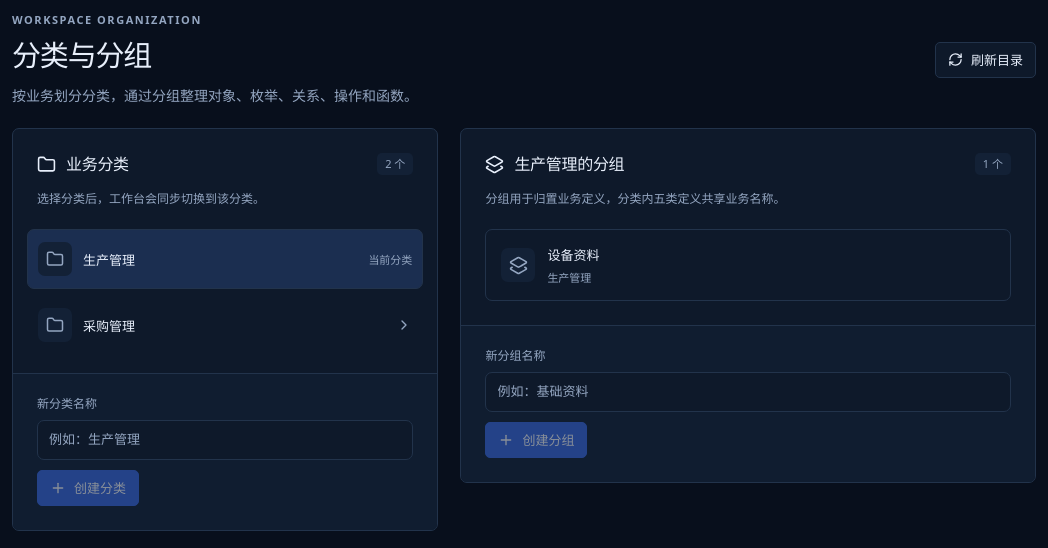
classification and definition-group management › clears loaded directory data after a forbidden creation
expect the text "设备资料" is shown: met, box [547,245,599,264]
Type "新分组" into the field labelled "新分组名称" at (748, 392), box [485,372,1011,412]
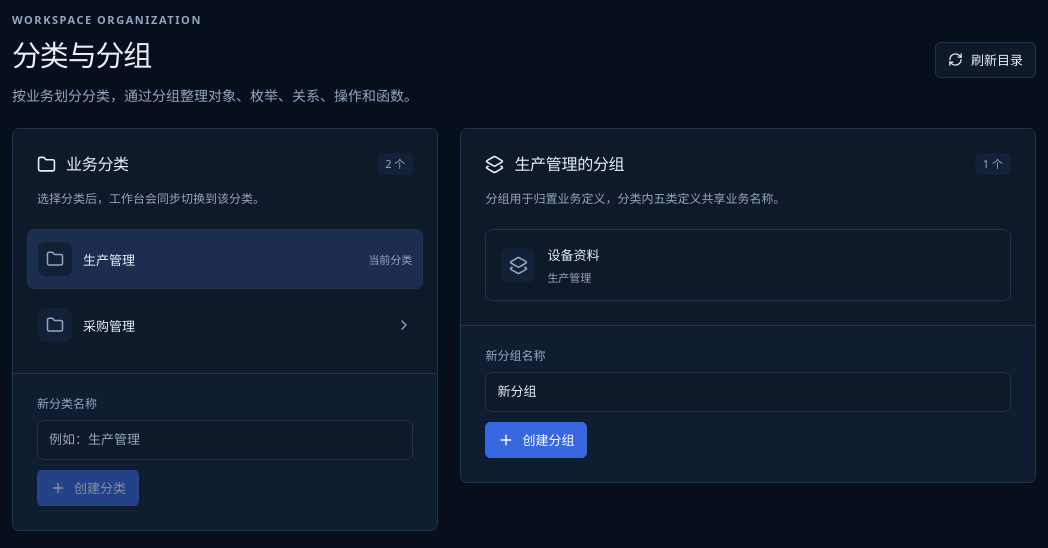
Click the button "创建分组" at (536, 440), box [485,422,587,458]
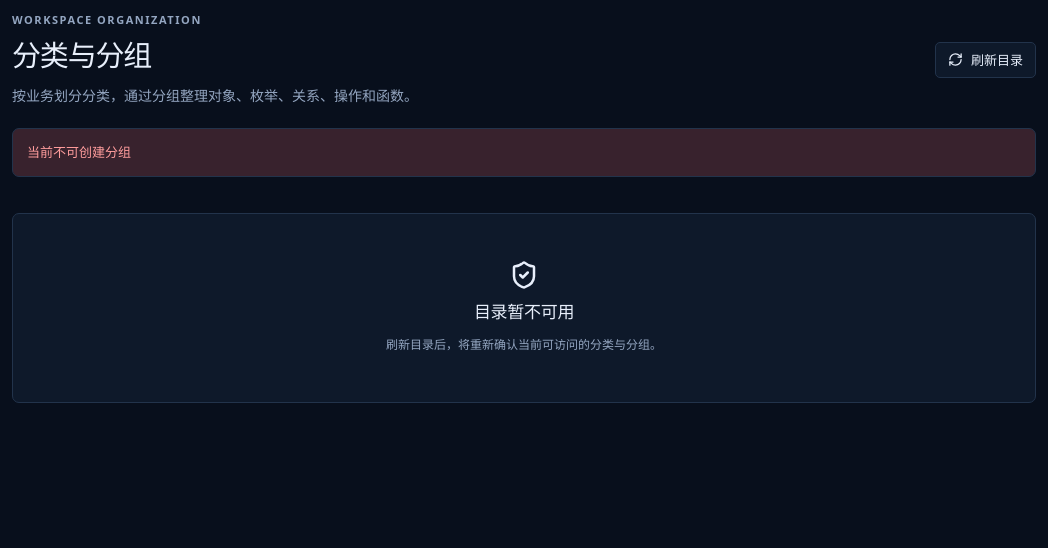
expect the text "当前不可创建分组" is shown: met, box [12,128,1036,177]
expect the text "设备资料" is gone: met
expect the button "生产管理" is gone: met
